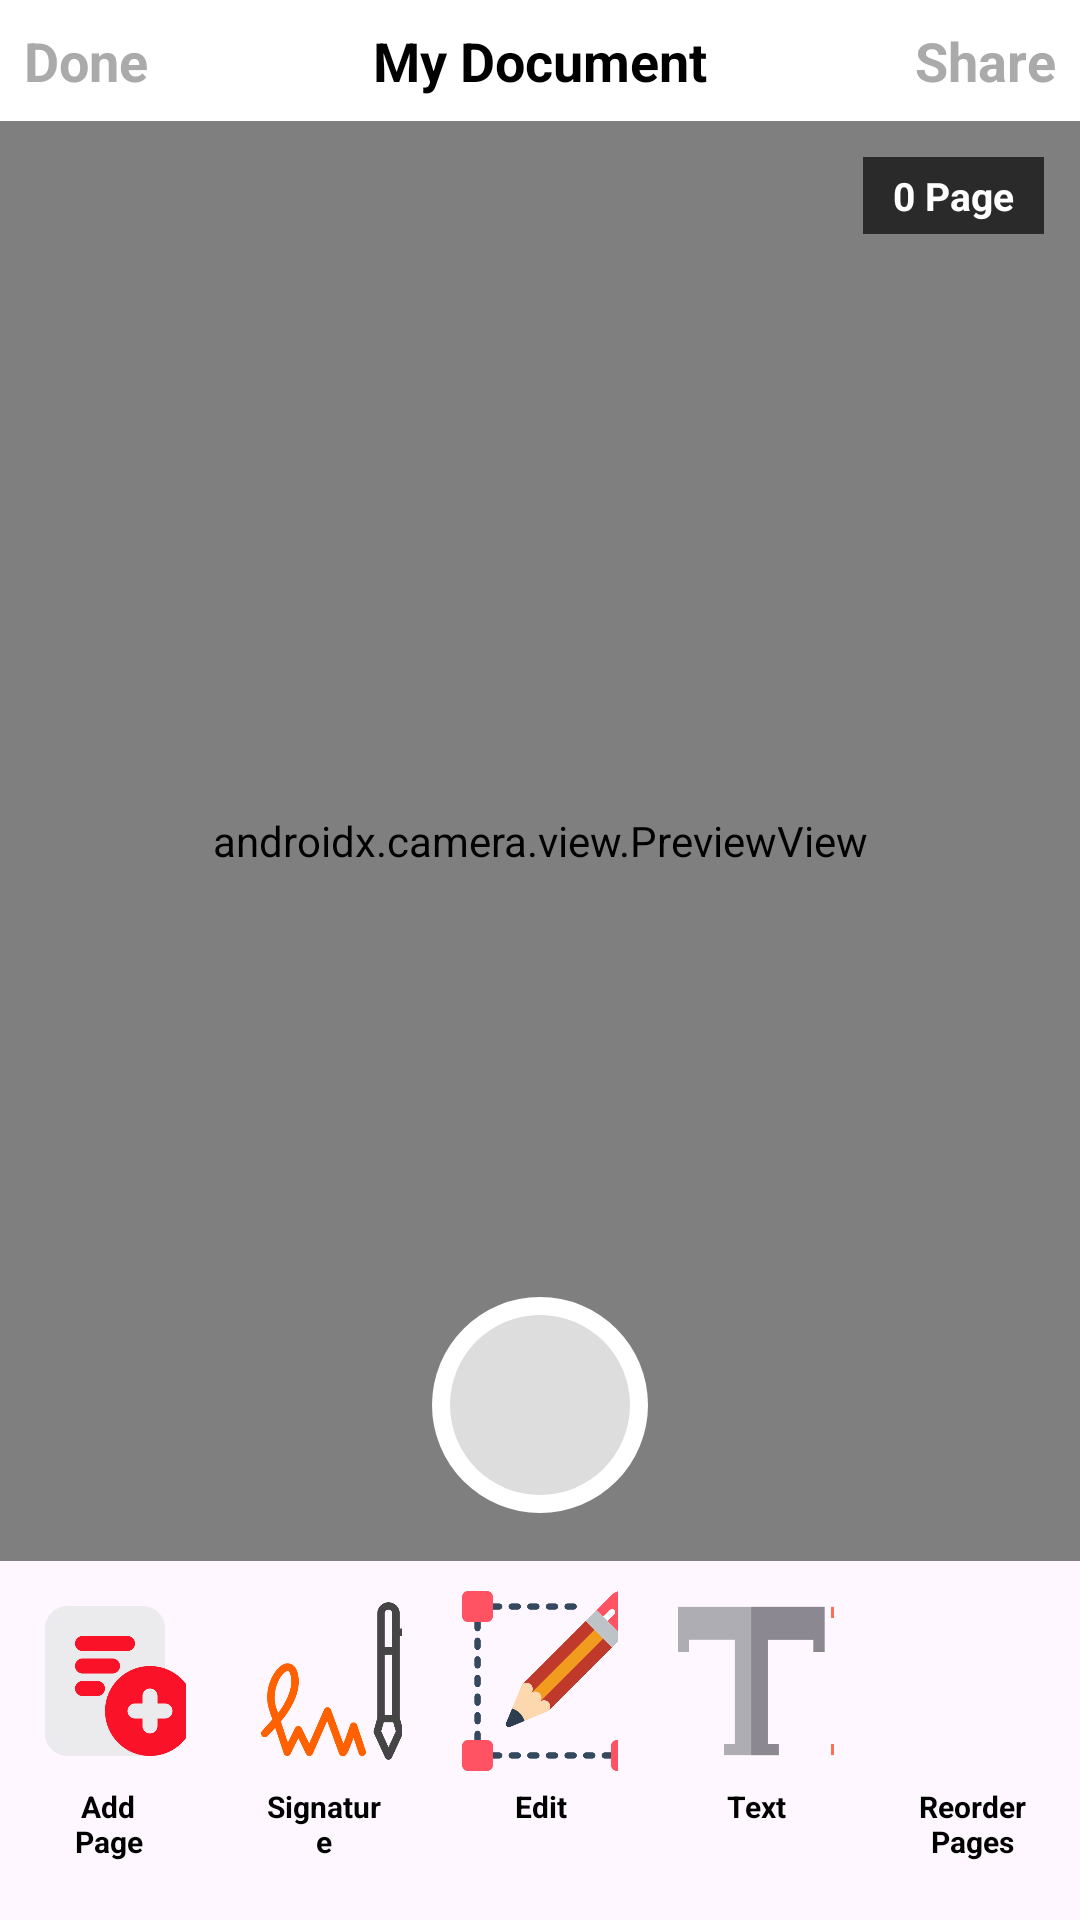

Icon click points for this 1080×1920 phone screenshot, format point (x, y):
capture: point (540, 1405)
